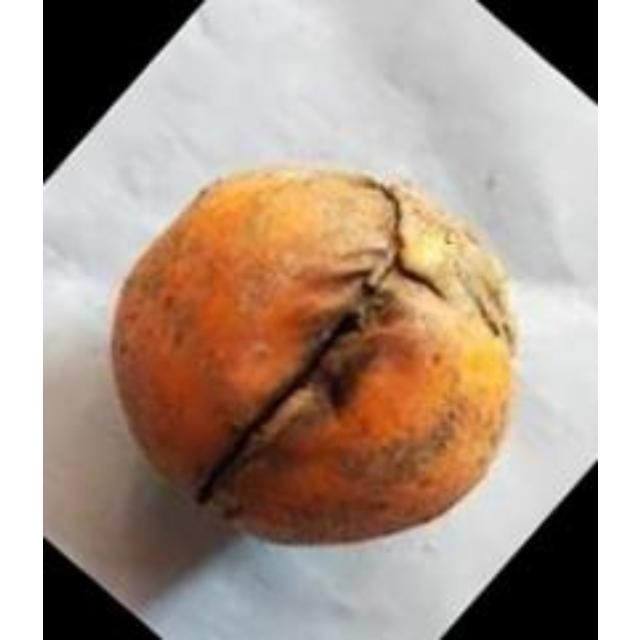damaged: (106, 162, 520, 550)
